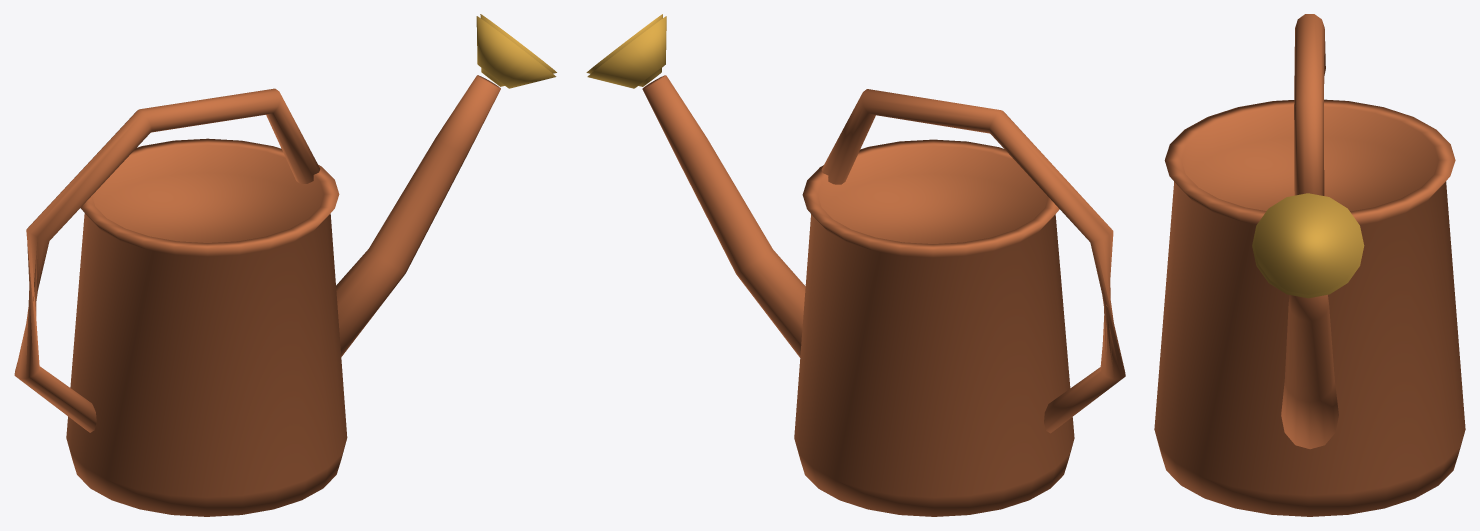
Rendered from prop_watering_can.glb.
3 renders of one model, left to right at view 1: azimuth 30°, elevation 25°; view 2: azimuth 150°, elevation 25°; view 3: azimuth 270°, elevation 25°, orthographic. The views are drawn at different scales.
Parts seen in each view (by area): view 1: prop_watering_can; view 2: prop_watering_can; view 3: prop_watering_can.
Part boxes in pixels (<box>): prop_watering_can: <box>14,14,556,516</box>; prop_watering_can: <box>586,14,1125,516</box>; prop_watering_can: <box>1154,14,1465,516</box>.
Bounding box in the file's own units: 1.07 × 0.72 × 0.4923.
